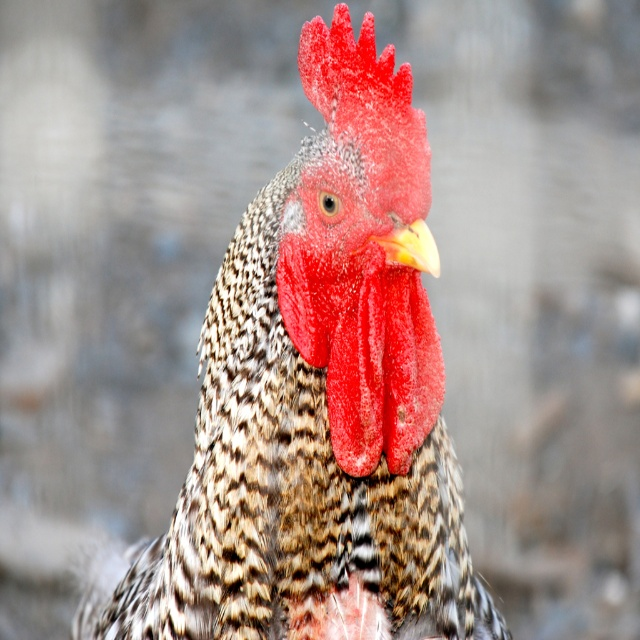Chicken: (96, 24, 502, 640)
